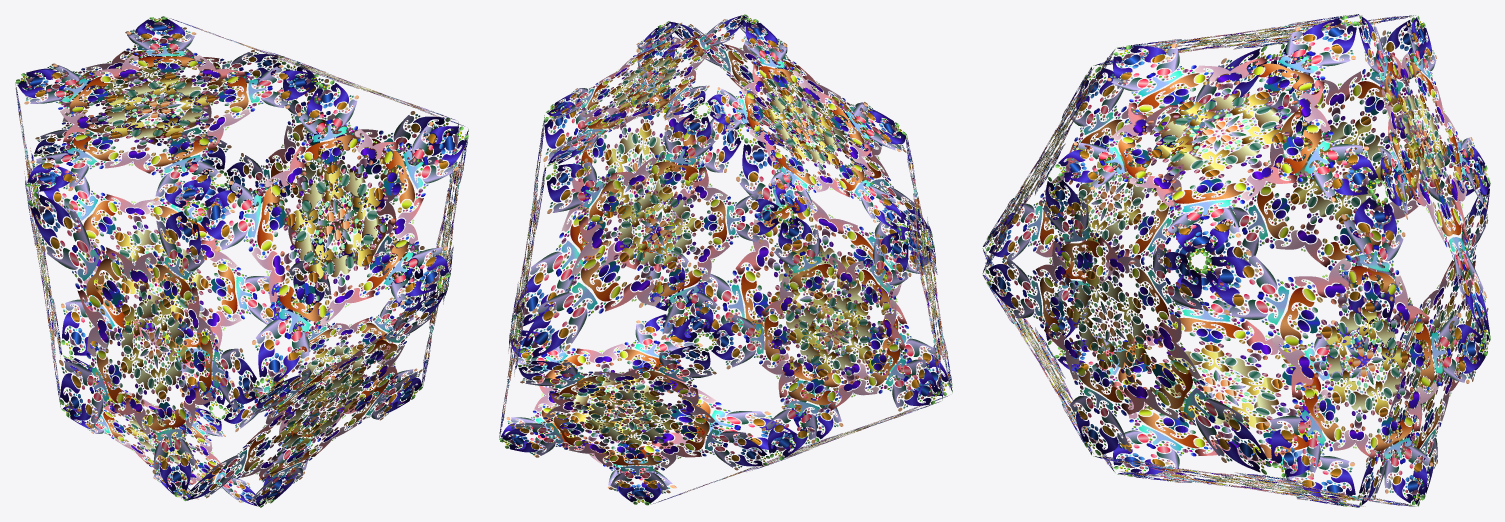
File: Tetartoid5.obj
3 views of the same model, side by side, from view 1: azimuth 30°, elevation 25°; view 2: azimuth 150°, elevation 25°; view 3: azimuth 270°, elevation 25° (orthographic). The views are drawn at different scales.
Bounding box in the file's own units: 22 × 22 × 22.
Materials: 1 (1 with a texture image).
